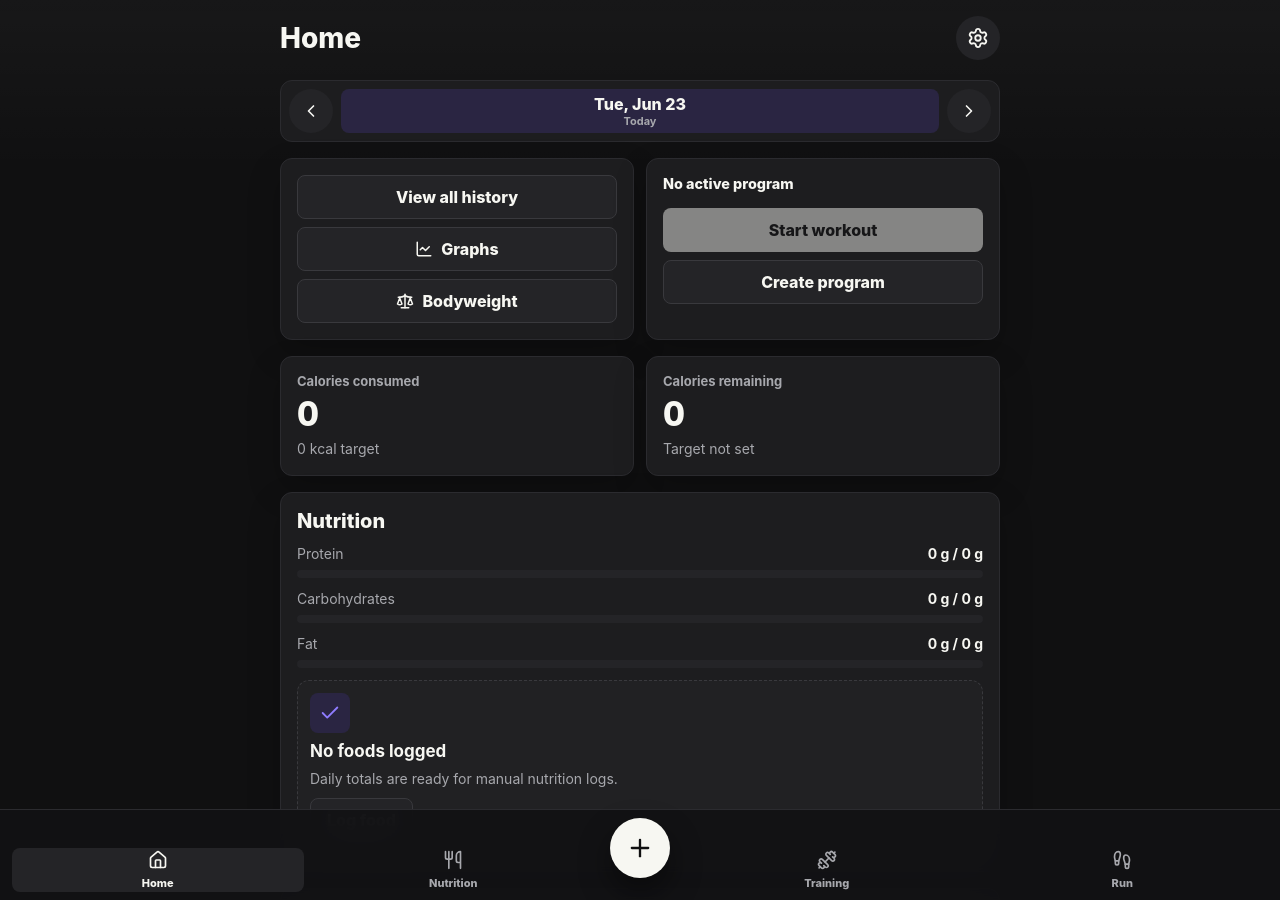
Test: TrainingPage › opens create program from the center Add sheet
What coordinates should you click on to do the following:
click the button named "Open quick actions"
I would click on:
 (640, 848)
Its box is 610,818 -> 670,878.
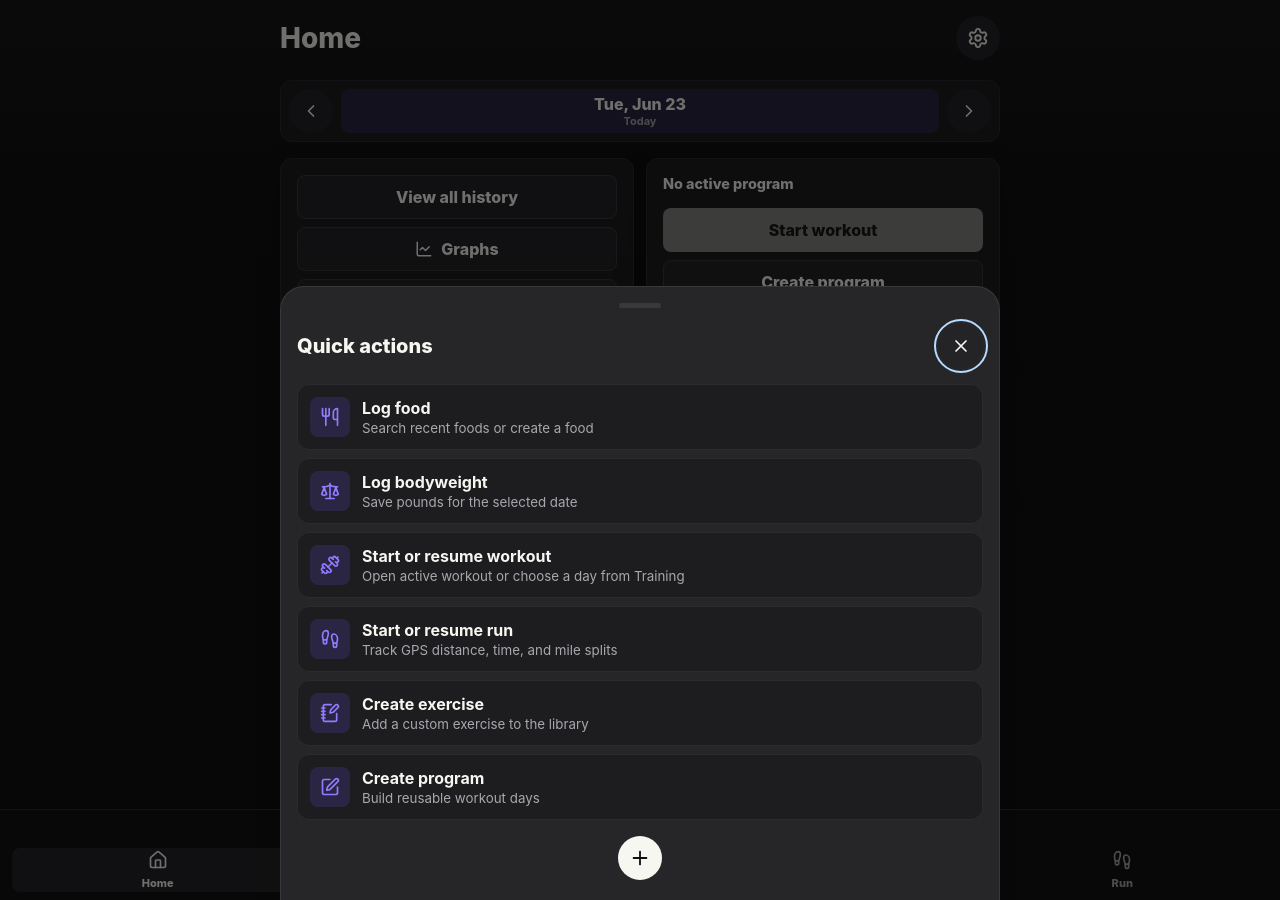
What coordinates should you click on to do the following:
click the button "Create program Build reusable workout days"
I would click on:
 (330, 787)
Its box is 297,754 -> 983,820.
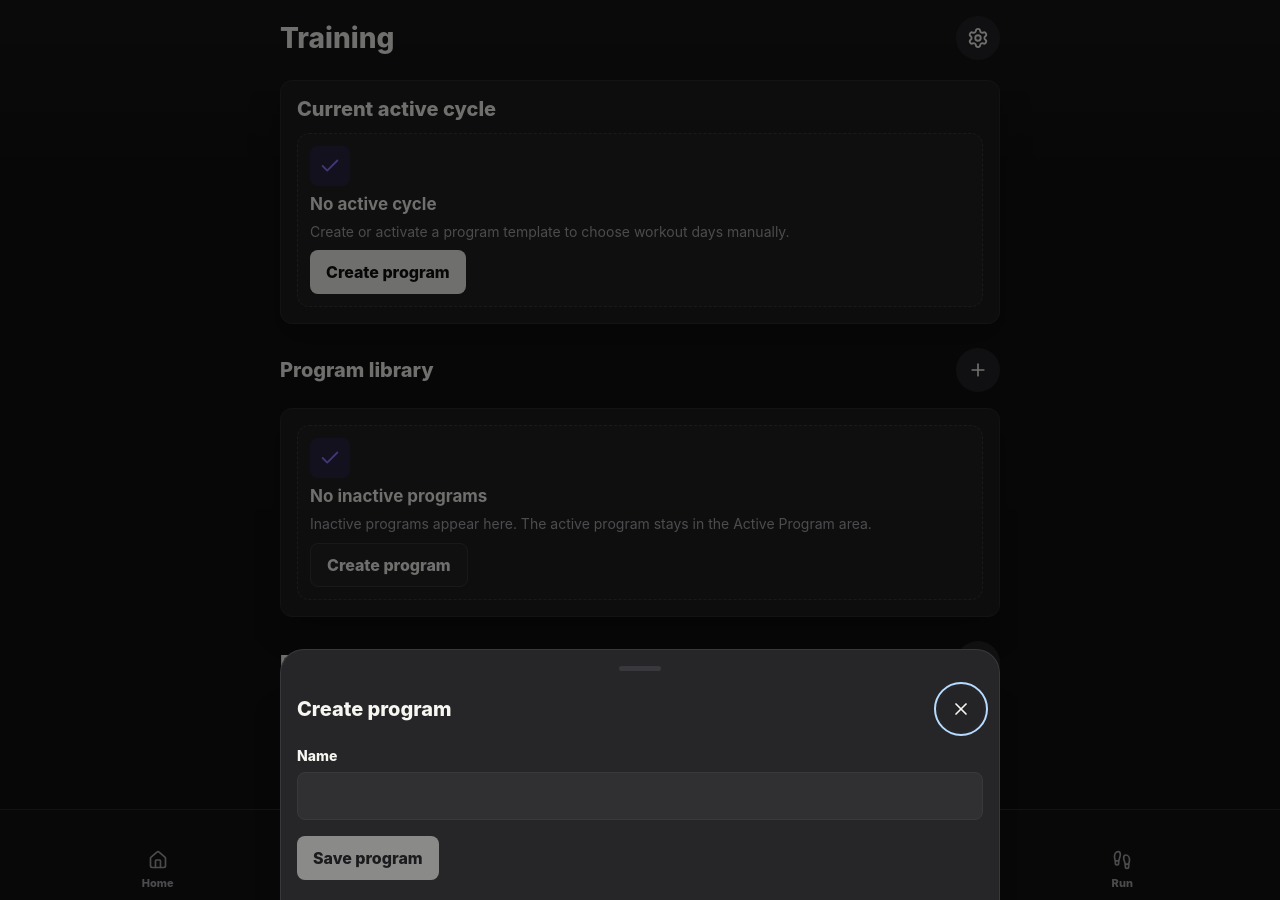
Now the dialog "Create program" is shown, box 280,649 -> 1000,899
Now the heading "Training" is shown, box 280,23 -> 394,53
